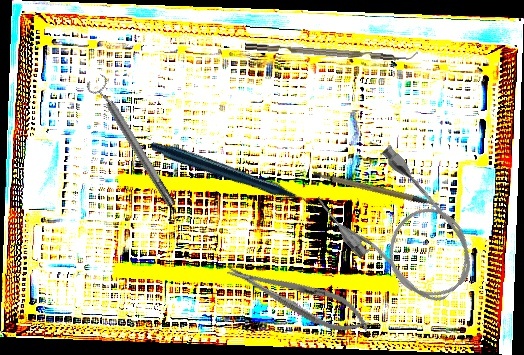Cannula: (310, 137, 492, 324)
Chopper: (244, 34, 419, 65)
Fixation Ring: (83, 71, 182, 213)
Handpiece: (149, 88, 317, 268)
Needle Holder: (221, 252, 376, 343)
Scalpel Handle: (311, 155, 442, 227)
